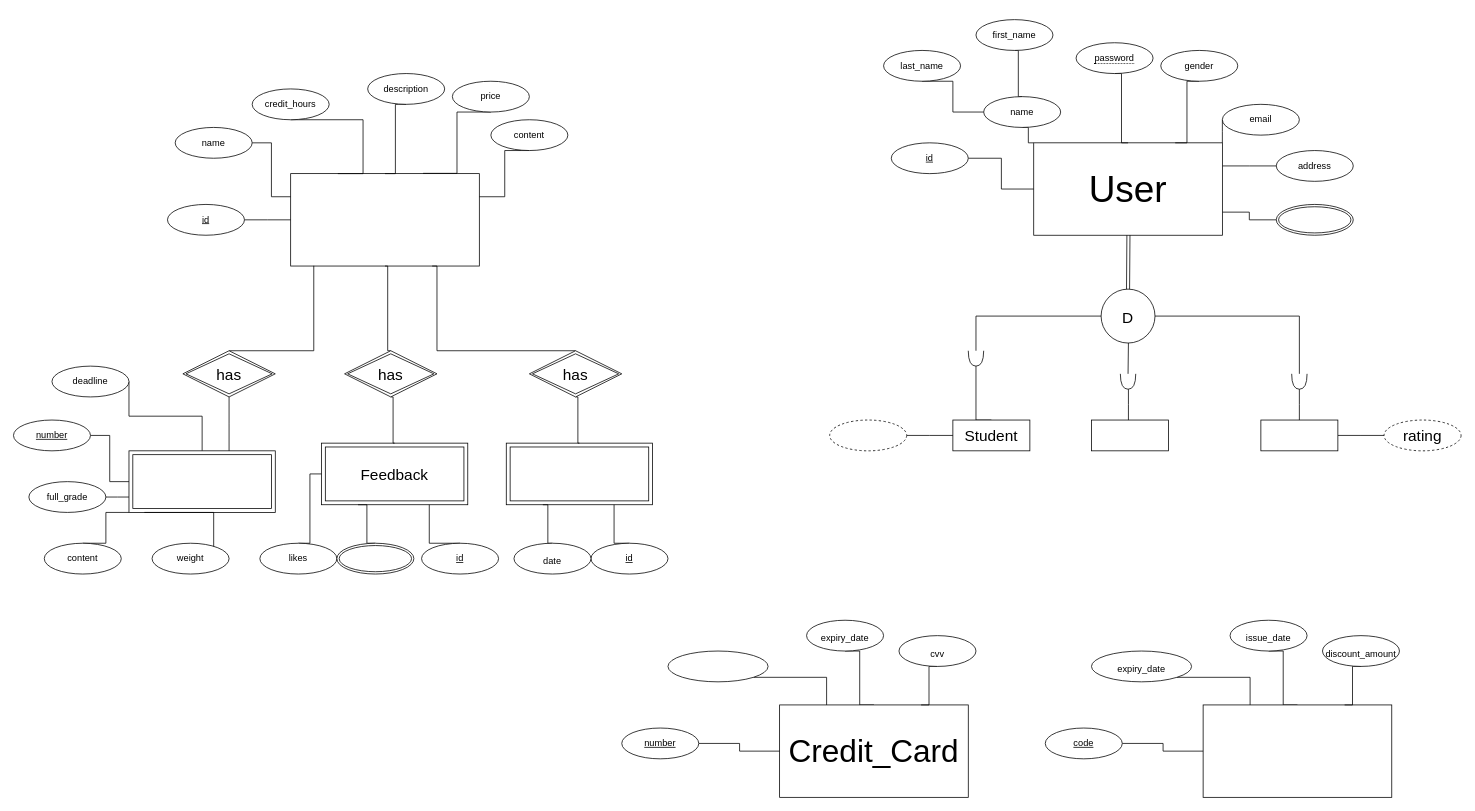
This 1475x811 diagram has some shape labels left out. The shapes that lost their labels are listed below. From the top down, each one's centre as x and y in pixels, then its label:
the point at 384,219: Course
the point at 1314,219: mobile_number
the point at 868,435: gpa
the point at 1129,435: Admin
the point at 1299,435: Instructor
the point at 201,481: Assignment
the point at 579,473: Certificate
the point at 375,558: comments
the point at 717,666: card_holder_name
the point at 1297,750: Promo_Code
